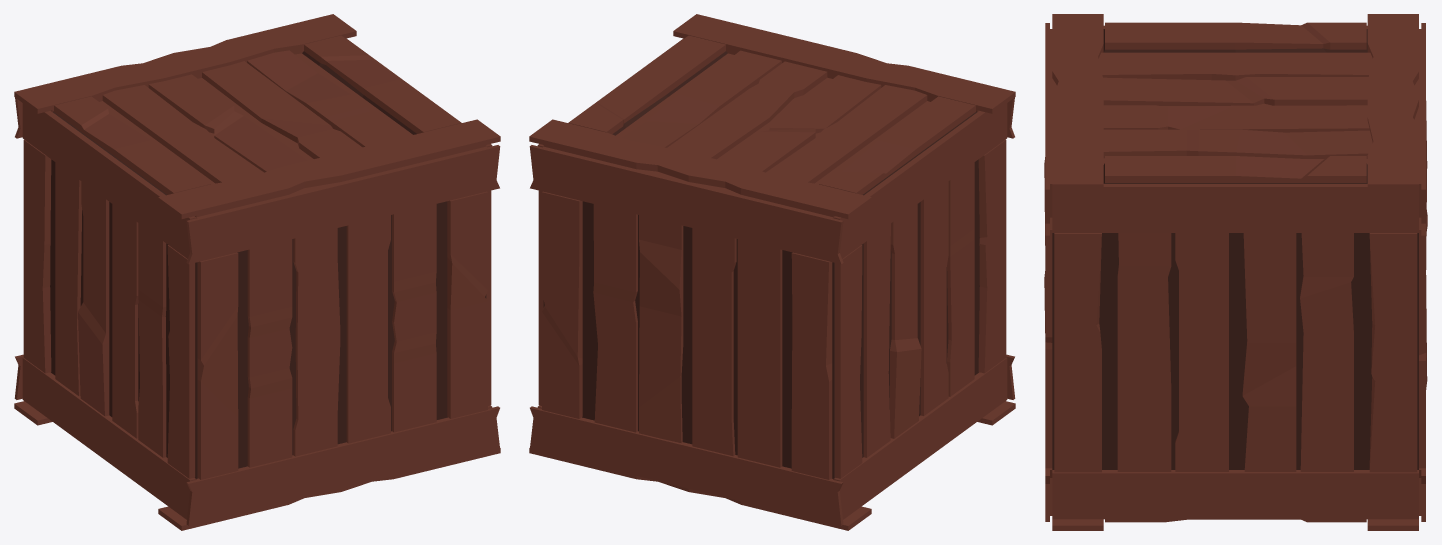
File: Crate.glb
The picture shows the model from 3 angles, left to right: view 1: azimuth 30°, elevation 25°; view 2: azimuth 150°, elevation 25°; view 3: azimuth 270°, elevation 25°; orthographic projection. The views are drawn at different scales.
Parts seen in each view (by area): view 1: Crate; view 2: Crate; view 3: Crate.
Part boxes in pixels (bbox=[...]): Crate: bbox=[14, 14, 500, 530]; Crate: bbox=[529, 14, 1015, 530]; Crate: bbox=[1044, 14, 1427, 530].
Size of the model in its own units: 138 by 131 by 131.
